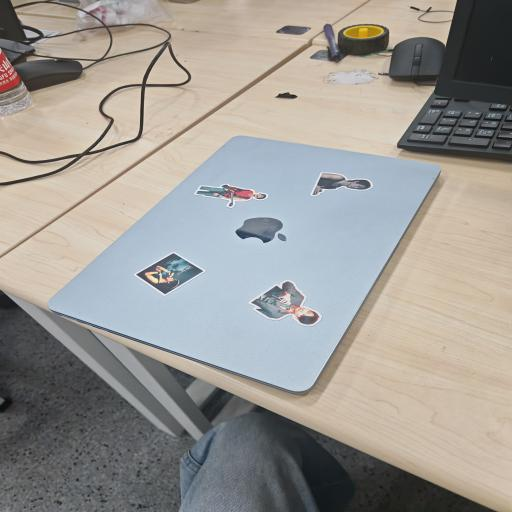laptop: (48, 136, 440, 394)
mouse: (388, 37, 445, 81), (14, 59, 82, 91)
